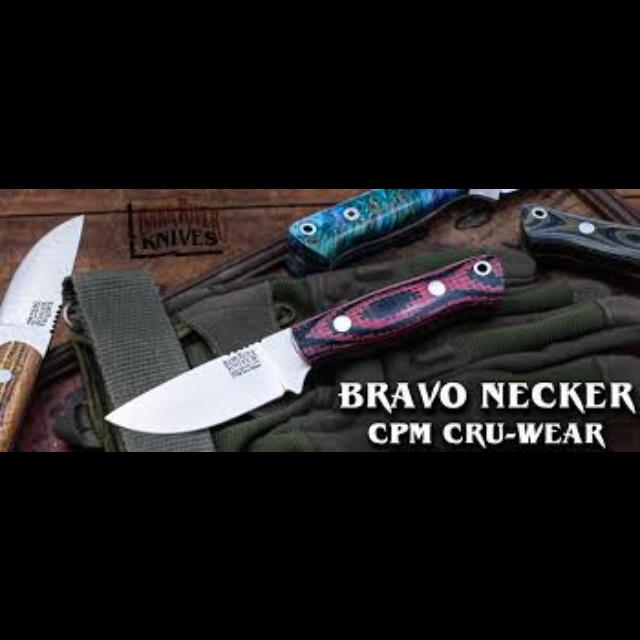Knife: (102, 251, 506, 433), (159, 188, 521, 302), (0, 212, 84, 450)
